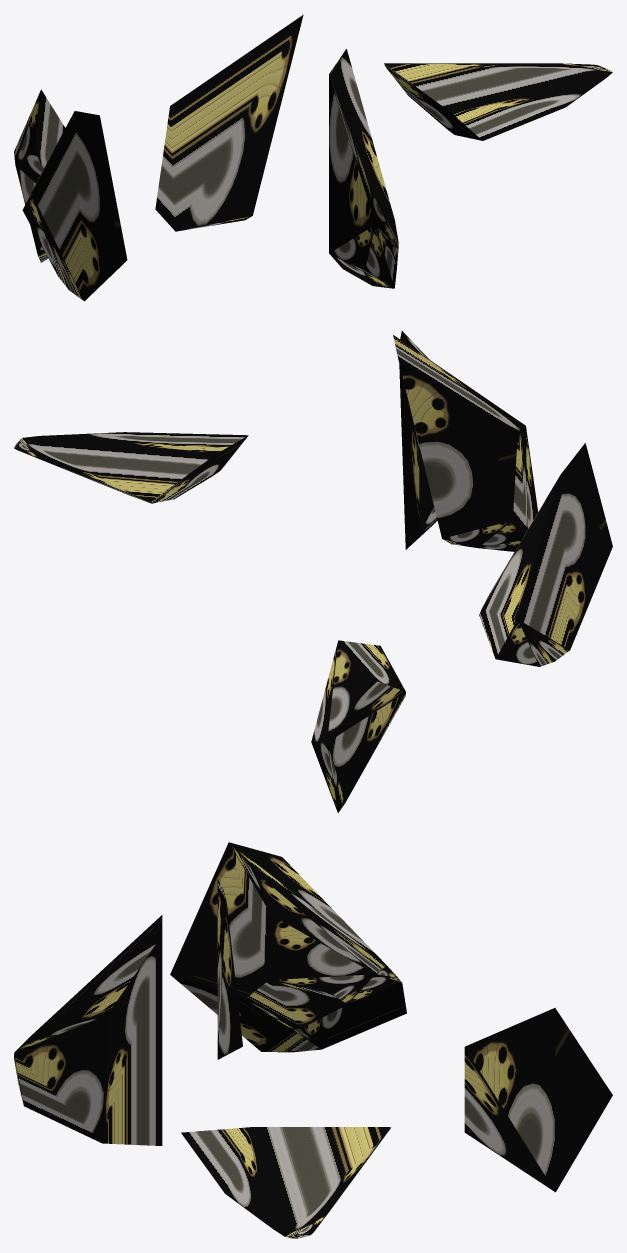
The model's file is ShellFrac.fbx.
3 renders of one model, top to bottom at view 1: azimuth 30°, elevation 25°; view 2: azimuth 150°, elevation 25°; view 3: azimuth 270°, elevation 25°, orthographic. The views are drawn at different scales.
Parts seen in each view (by area): view 1: ShellFrac3, ShellFrac4, ShellFrac1, ShellFrac2, ShellFrac5; view 2: ShellFrac3, ShellFrac4, ShellFrac1, ShellFrac5, ShellFrac2; view 3: ShellFrac4, ShellFrac2, ShellFrac5, ShellFrac1, ShellFrac3.
Part boxes in pixels (x1,y1,x2,y2): ShellFrac3: (155,14,303,231); ShellFrac4: (22,111,127,301); ShellFrac1: (384,63,612,140); ShellFrac2: (329,49,398,288); ShellFrac5: (14,89,65,262); ShellFrac3: (393,335,537,551); ShellFrac4: (479,443,612,666); ShellFrac1: (14,432,248,503); ShellFrac5: (311,640,405,812); ShellFrac2: (399,331,437,549); ShellFrac4: (170,842,406,1052); ShellFrac2: (14,915,162,1145); ShellFrac5: (464,1008,612,1192); ShellFrac1: (181,1127,390,1238); ShellFrac3: (217,879,242,1059).
Size of the model in its own units: 765 by 460 by 692.
